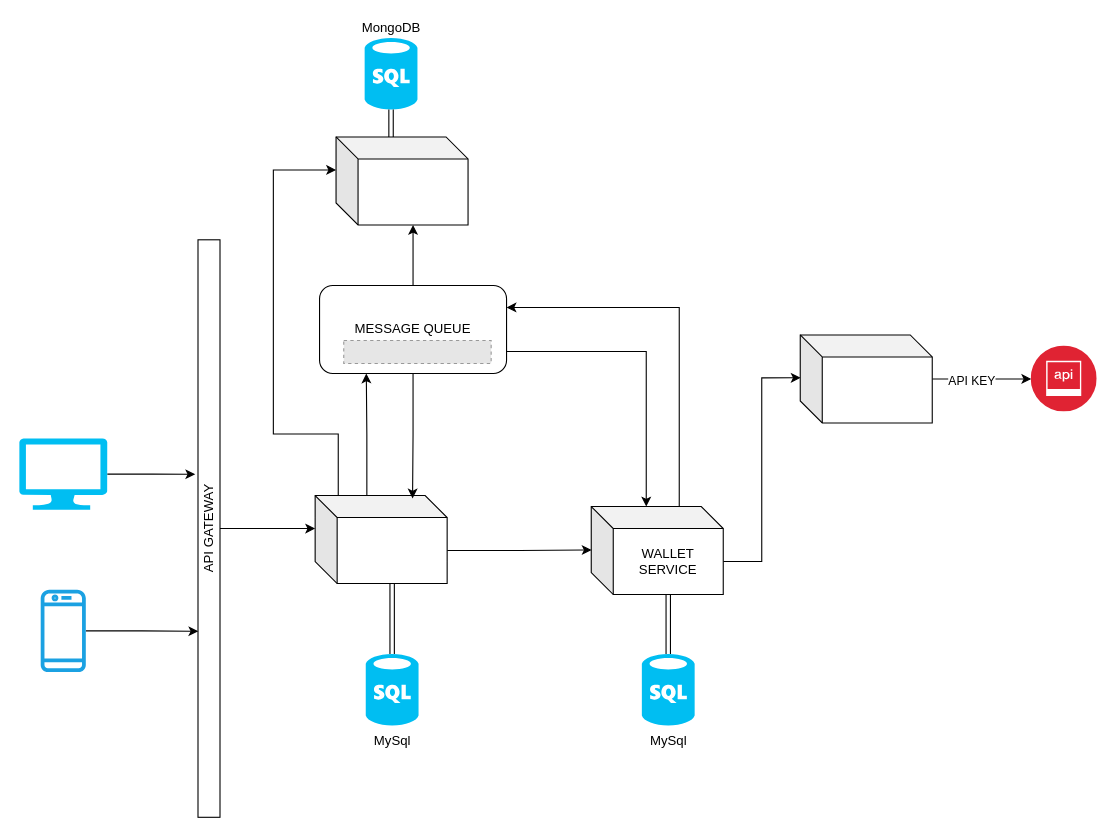
Image size: 1115x836. Some labels were removed from this diagram. Grey dashed boxes stand in for pictures. Each missing label, with the centre of its shape:
"EXCHANGE RATE SERVICE" goes at (865,378).
"TRANSACTION SERVICE" goes at (401,180).
"USER SERVICE" goes at (380,539).
